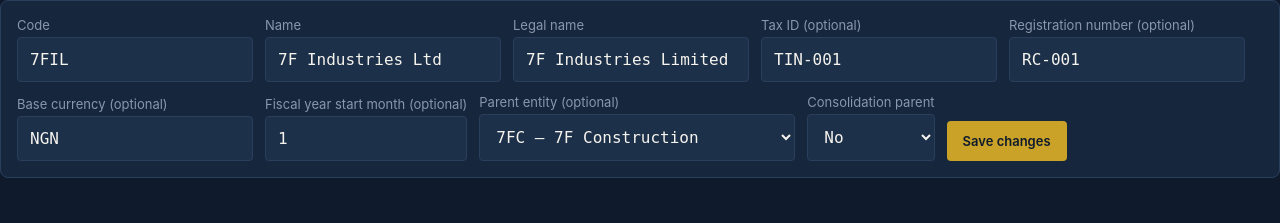
Test: EditEntityForm › shows the action-returned error message on failure, without a "Saved." message
What coordinates should you click on to do the following:
click the button "Save changes"
I would click on:
 (1007, 141)
Its box is [947,121,1067,161].
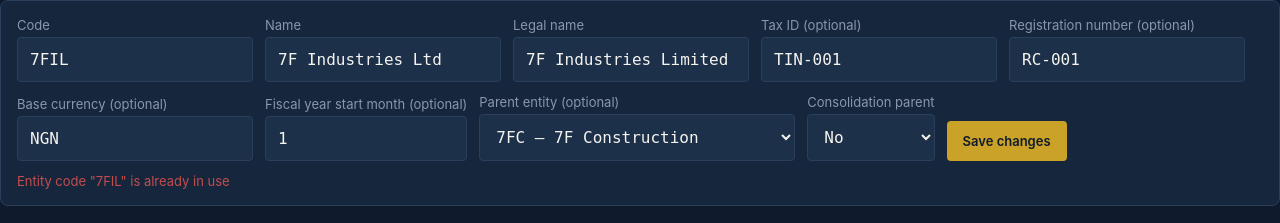
Expected: the text "Entity code \"7FIL\" is already in use" is shown, [17,173,230,189]
